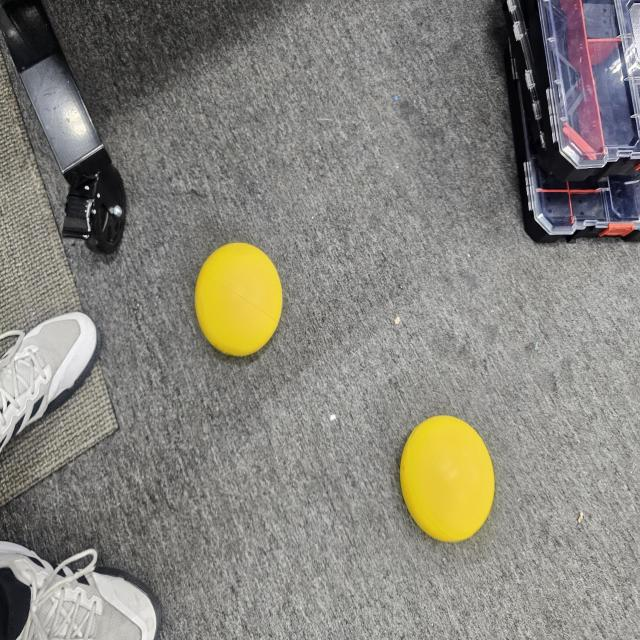Fuel: (395, 407, 500, 550), (190, 232, 287, 367)
